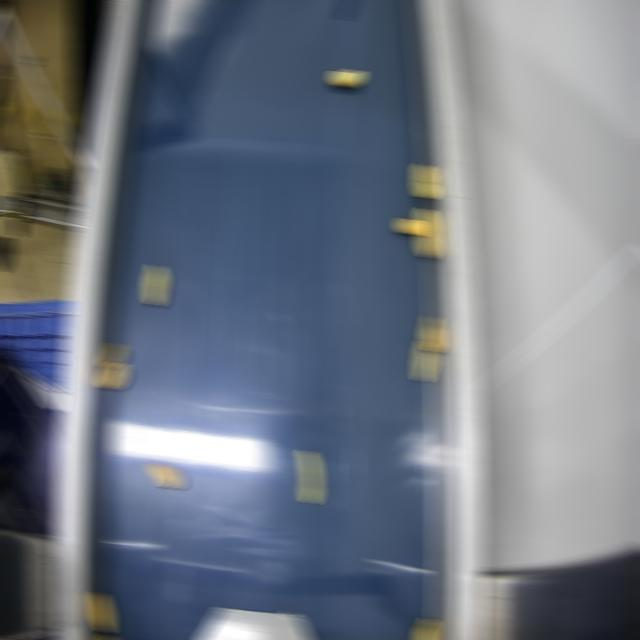Baby Potato: (300, 450, 319, 503), (419, 208, 436, 257), (146, 264, 165, 305), (150, 463, 181, 488), (92, 592, 111, 632), (414, 164, 435, 198), (416, 341, 433, 381), (100, 362, 125, 389), (423, 317, 440, 351), (331, 69, 362, 87), (101, 343, 122, 367), (398, 218, 423, 235), (418, 618, 435, 639)
